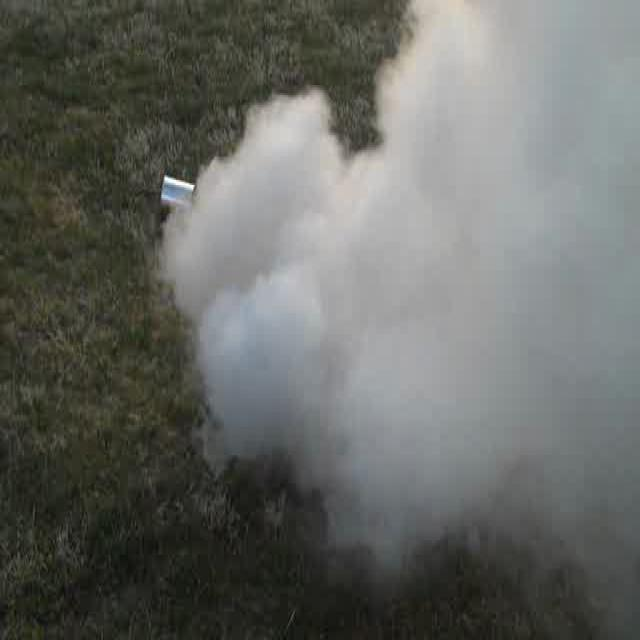Smoke: (215, 13, 632, 515)
